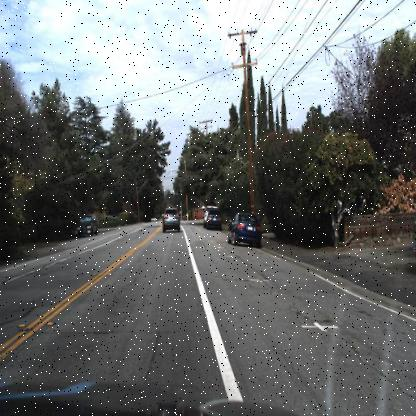car: (224, 208, 264, 254), (158, 201, 186, 237), (72, 210, 99, 242), (73, 209, 98, 240), (203, 206, 224, 231), (202, 210, 223, 230)
